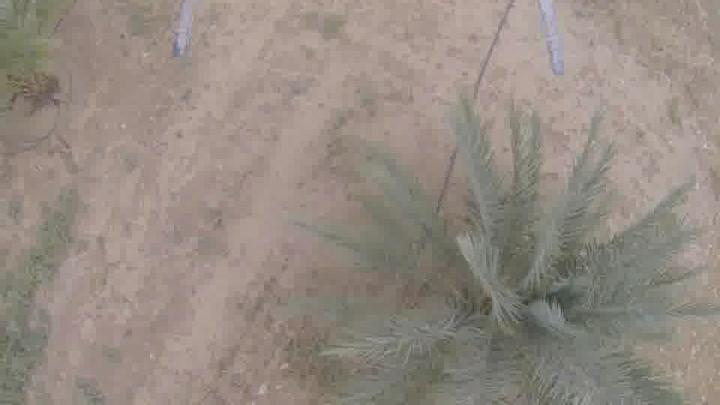Date-Palm-Crown: (374, 195, 634, 399)
